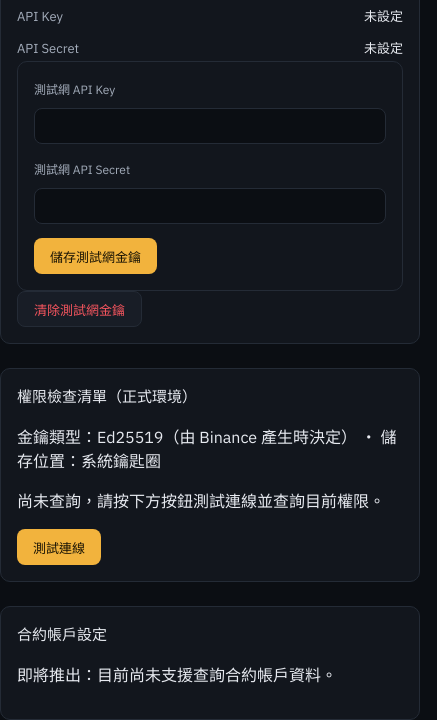
Test case: Settings › 按下測試連線成功後顯示 check_account_permissions 查回來的真實權限
(page scrolled)
Click the button "測試連線": click(59, 547) top-left (17, 529), bottom-right (101, 565)
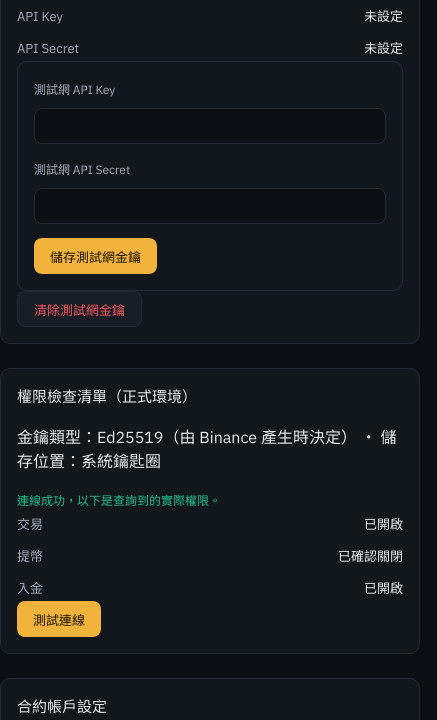
expect the text "連線成功，以下是查詢到的實際權限。" is shown: met, box top-left (17, 493), bottom-right (221, 508)
expect the text "已開啟" is shown 2 times: met, box top-left (364, 513), bottom-right (403, 537); top-left (364, 577), bottom-right (403, 601)
expect the text "已確認關閉" is shown: met, box top-left (338, 545), bottom-right (403, 569)
